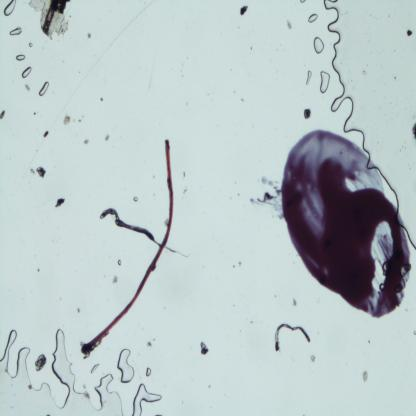Air bubble: (320, 0, 415, 244), (0, 326, 125, 416), (130, 383, 161, 415), (116, 347, 134, 385), (319, 70, 331, 94), (313, 34, 325, 54), (3, 0, 17, 17), (38, 79, 50, 97), (21, 66, 32, 79), (9, 27, 23, 37), (304, 70, 312, 84), (307, 13, 317, 24), (90, 363, 100, 373), (144, 365, 152, 376), (15, 53, 26, 61), (300, 0, 306, 4)
Background material: (29, 0, 72, 43), (33, 352, 48, 372), (54, 195, 68, 211), (198, 341, 210, 357), (36, 166, 48, 182), (301, 106, 312, 122), (239, 2, 248, 20), (61, 114, 72, 126), (0, 109, 8, 121), (290, 295, 297, 308), (411, 122, 416, 140), (362, 369, 368, 384), (42, 129, 50, 138), (25, 81, 31, 92), (235, 259, 243, 267), (117, 257, 123, 267), (83, 136, 89, 146), (406, 29, 414, 36), (104, 132, 111, 140), (144, 340, 152, 347), (132, 196, 140, 203), (287, 19, 292, 30), (112, 273, 117, 284), (182, 185, 188, 194), (182, 169, 187, 179), (33, 109, 40, 116), (88, 30, 92, 40), (312, 357, 316, 365), (99, 96, 104, 102), (30, 167, 34, 174), (76, 307, 80, 314), (241, 97, 244, 102), (250, 45, 252, 52)
Cellulose filter fibre: (98, 206, 190, 258), (274, 323, 311, 352)
Cotton: (81, 139, 172, 356)
Pen: (284, 125, 411, 318), (251, 173, 284, 222)
